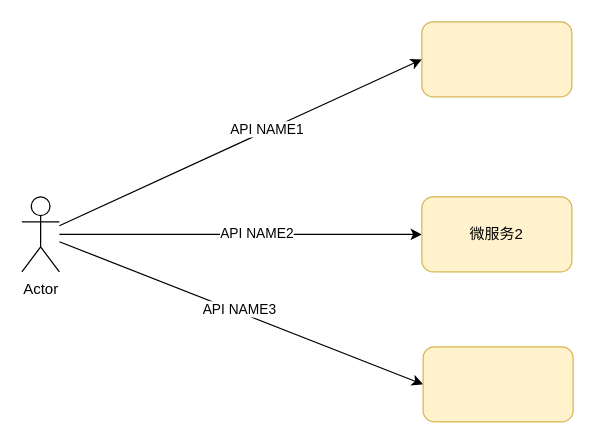
Some shapes in this 595 by 444 pixel diagram are drawn without their labels. Each missing label, with the centre of its shape:
"微服务1" belongs at point 496,59.
"微服务3" belongs at point 497,384.
